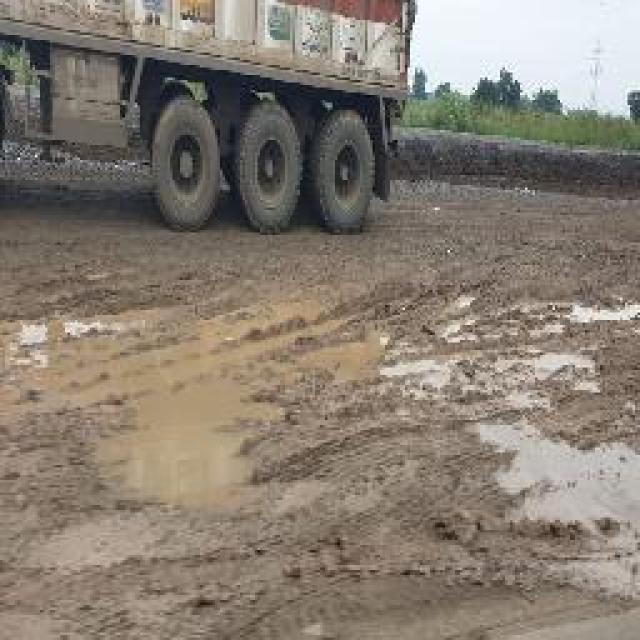stagnation: (94, 322, 287, 514), (487, 416, 640, 537)
